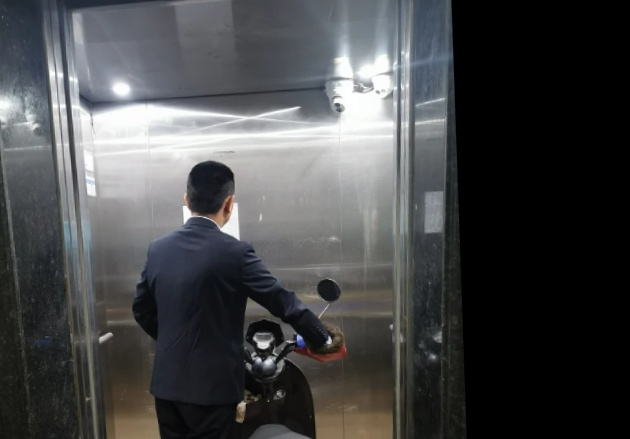ebike: (233, 278, 345, 438)
person: (136, 158, 337, 437)
